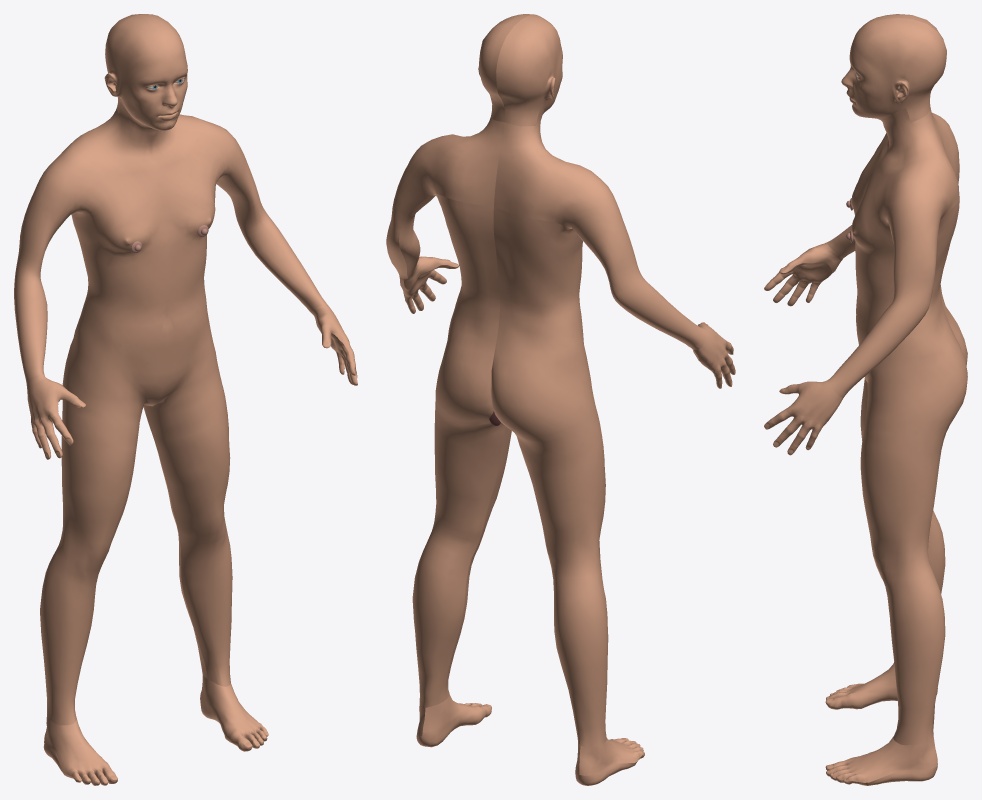
Rendered from body-jugendlicher-divers-real-v3.glb.
3 renders of one model, left to right at view 1: azimuth 30°, elevation 25°; view 2: azimuth 150°, elevation 25°; view 3: azimuth 270°, elevation 25°, orthographic.
Visible parts, largest first — view 1: real-human-body; view 2: real-human-body; view 3: real-human-body.
Boxes of the visible parts, <box> form: real-human-body: <box>14,14,357,785</box>; real-human-body: <box>386,14,735,785</box>; real-human-body: <box>764,14,967,785</box>.
Bounding box in the file's own units: 0.7513 × 1.66 × 0.4238.
Materials: 7 (1 with a texture image).
